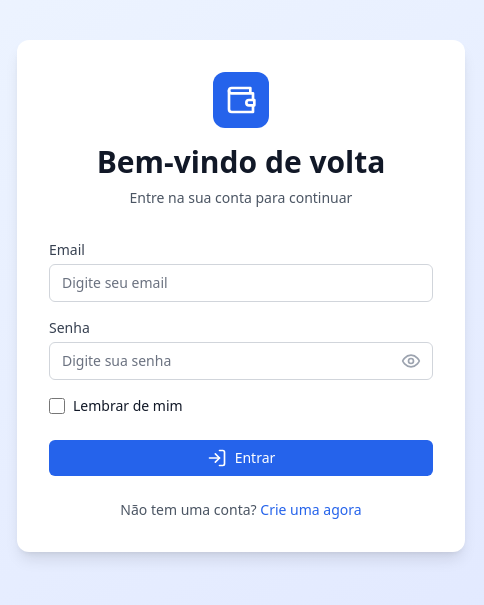
Scenario: LoginPage › validates required fields
Click the button "Entrar".
click(241, 458)  # box [49,440,433,476]
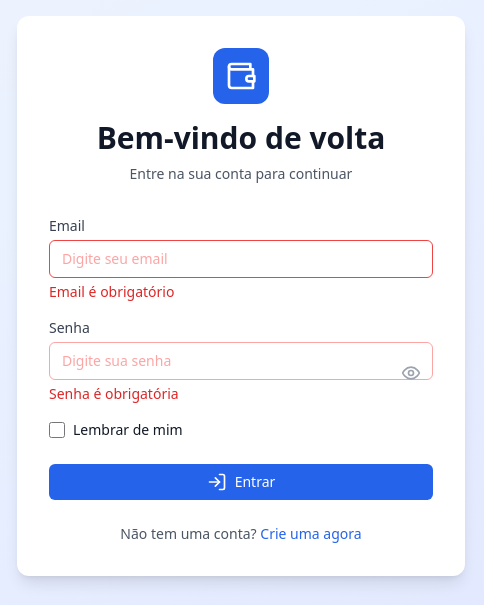
Check: the text "Email é obrigatório" is shown, box [49,282,174,301]
Check: the text "Senha é obrigatória" is shown, box [49,384,179,403]
